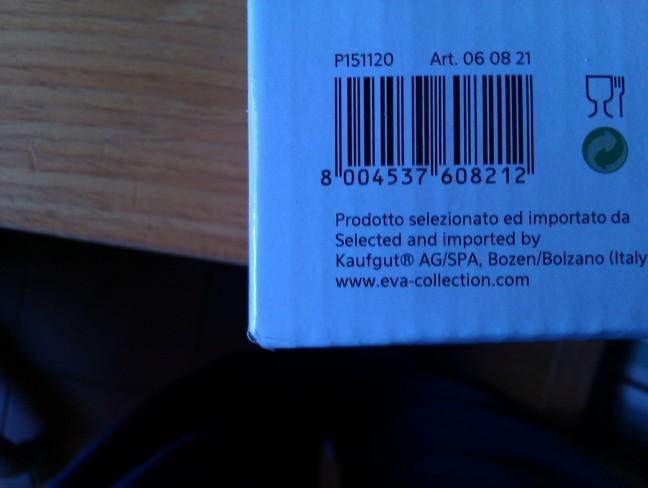Barkod: (289, 69, 559, 192)
